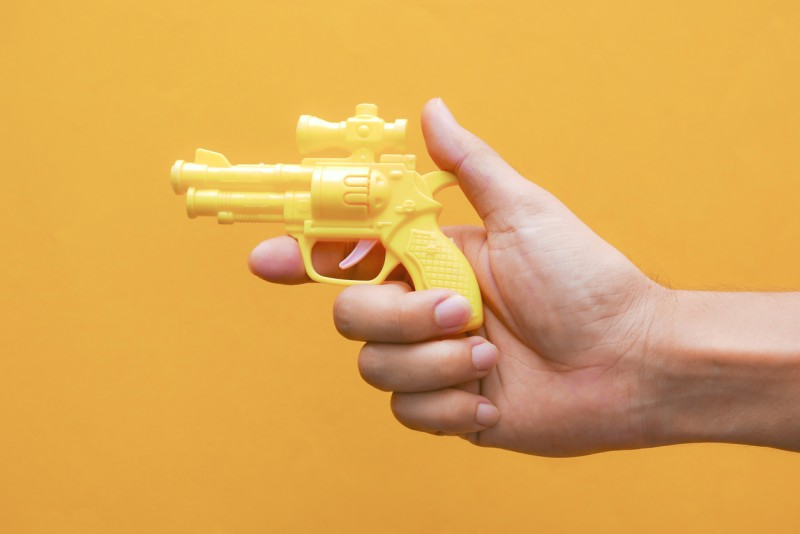Arma Falsa: (165, 103, 503, 332)
